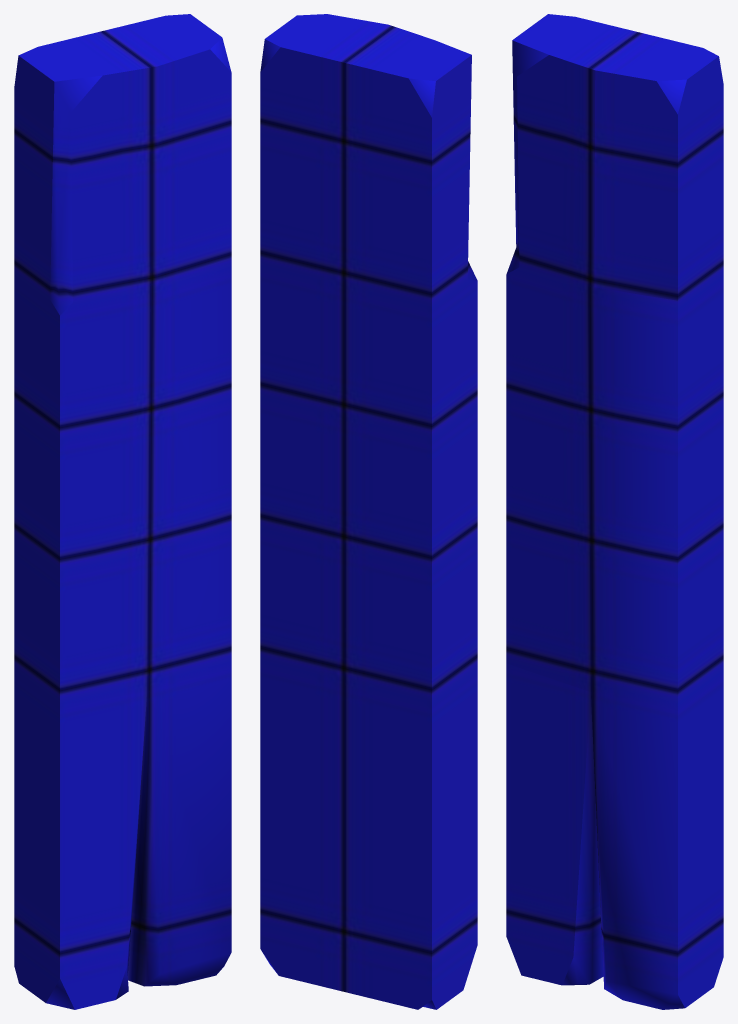
The model's file is railtie01.glb.
3 views of the same model, side by side, from view 1: azimuth 30°, elevation 25°; view 2: azimuth 150°, elevation 25°; view 3: azimuth 330°, elevation 25° (orthographic).
Size of the model in its own units: 14.15 by 73.18 by 7.15.
1 material, 1 textured.
